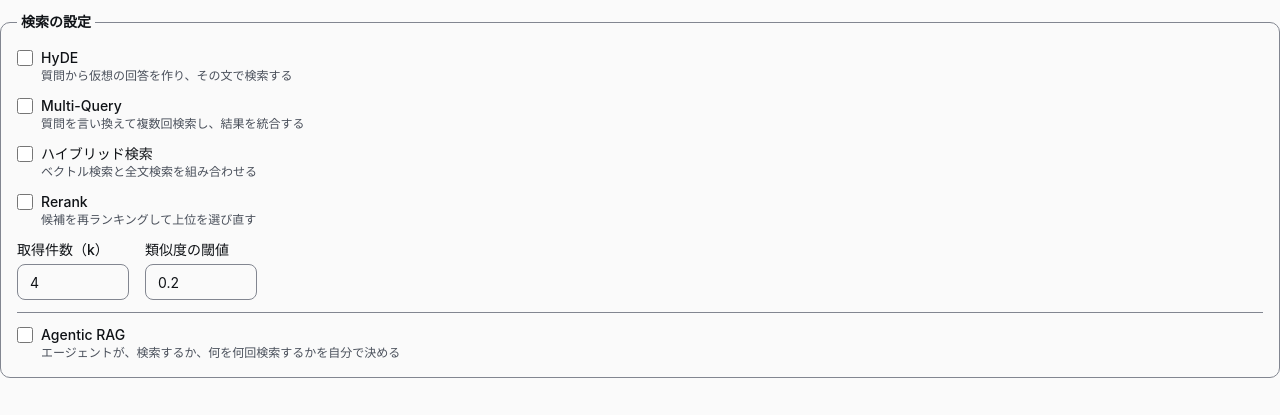
Test: MethodSwitches numeric inputs › does not pass  as the number of results
The width and height of the screenshot is (1280, 415).
Clear the number field labelled "取得件数（k）" at [73, 282], box 17,264 -> 129,300
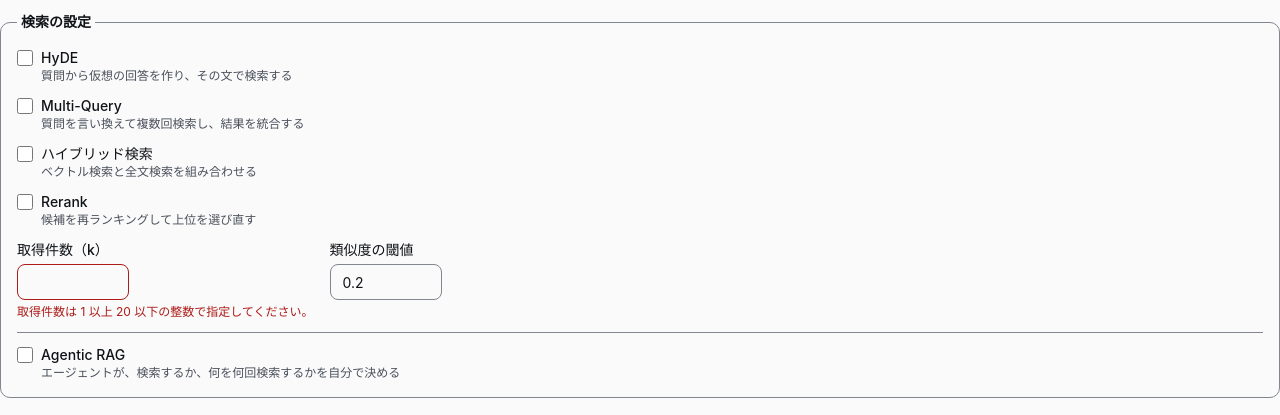
Expected: the message shows "1 以上 20 以下の整数", 17,304 -> 314,319
